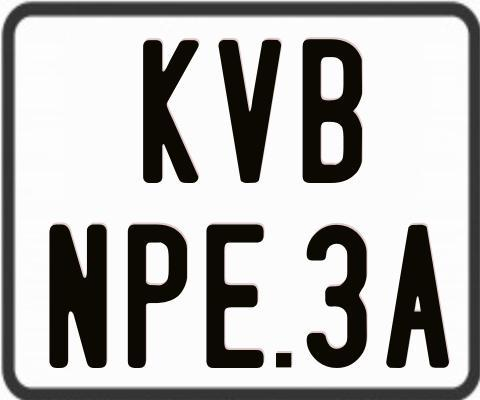3: (307, 223, 369, 368)
A: (384, 225, 449, 374)
B: (300, 36, 364, 184)
E: (205, 224, 267, 369)
K: (143, 37, 204, 185)
N: (47, 223, 105, 373)
P: (128, 223, 187, 368)
V: (219, 40, 284, 187)
